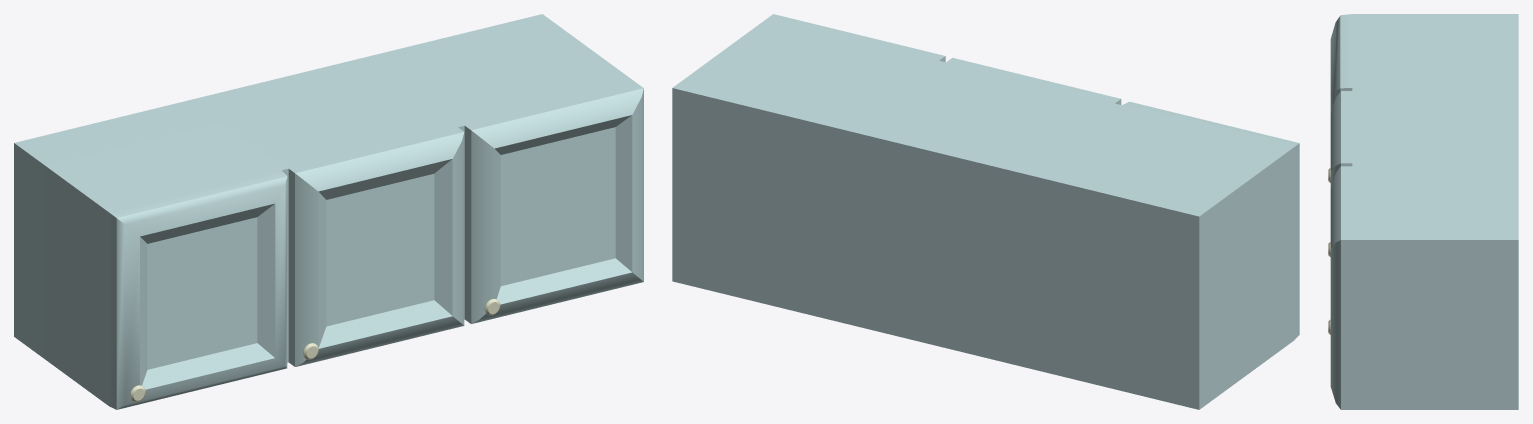
The model's file is uptance.fbx.
The picture shows the model from 3 angles, left to right: view 1: azimuth 30°, elevation 25°; view 2: azimuth 150°, elevation 25°; view 3: azimuth 270°, elevation 25°; orthographic projection. The views are drawn at different scales.
Parts seen in each view (by area): view 1: polySurface43; view 2: polySurface43; view 3: polySurface43.
Part boxes in pixels (box(x1,y1,x2,y2)): polySurface43: box(14, 14, 643, 409); polySurface43: box(672, 14, 1299, 409); polySurface43: box(1330, 14, 1518, 409).
Size of the model in its own units: 978 by 343 by 348.
